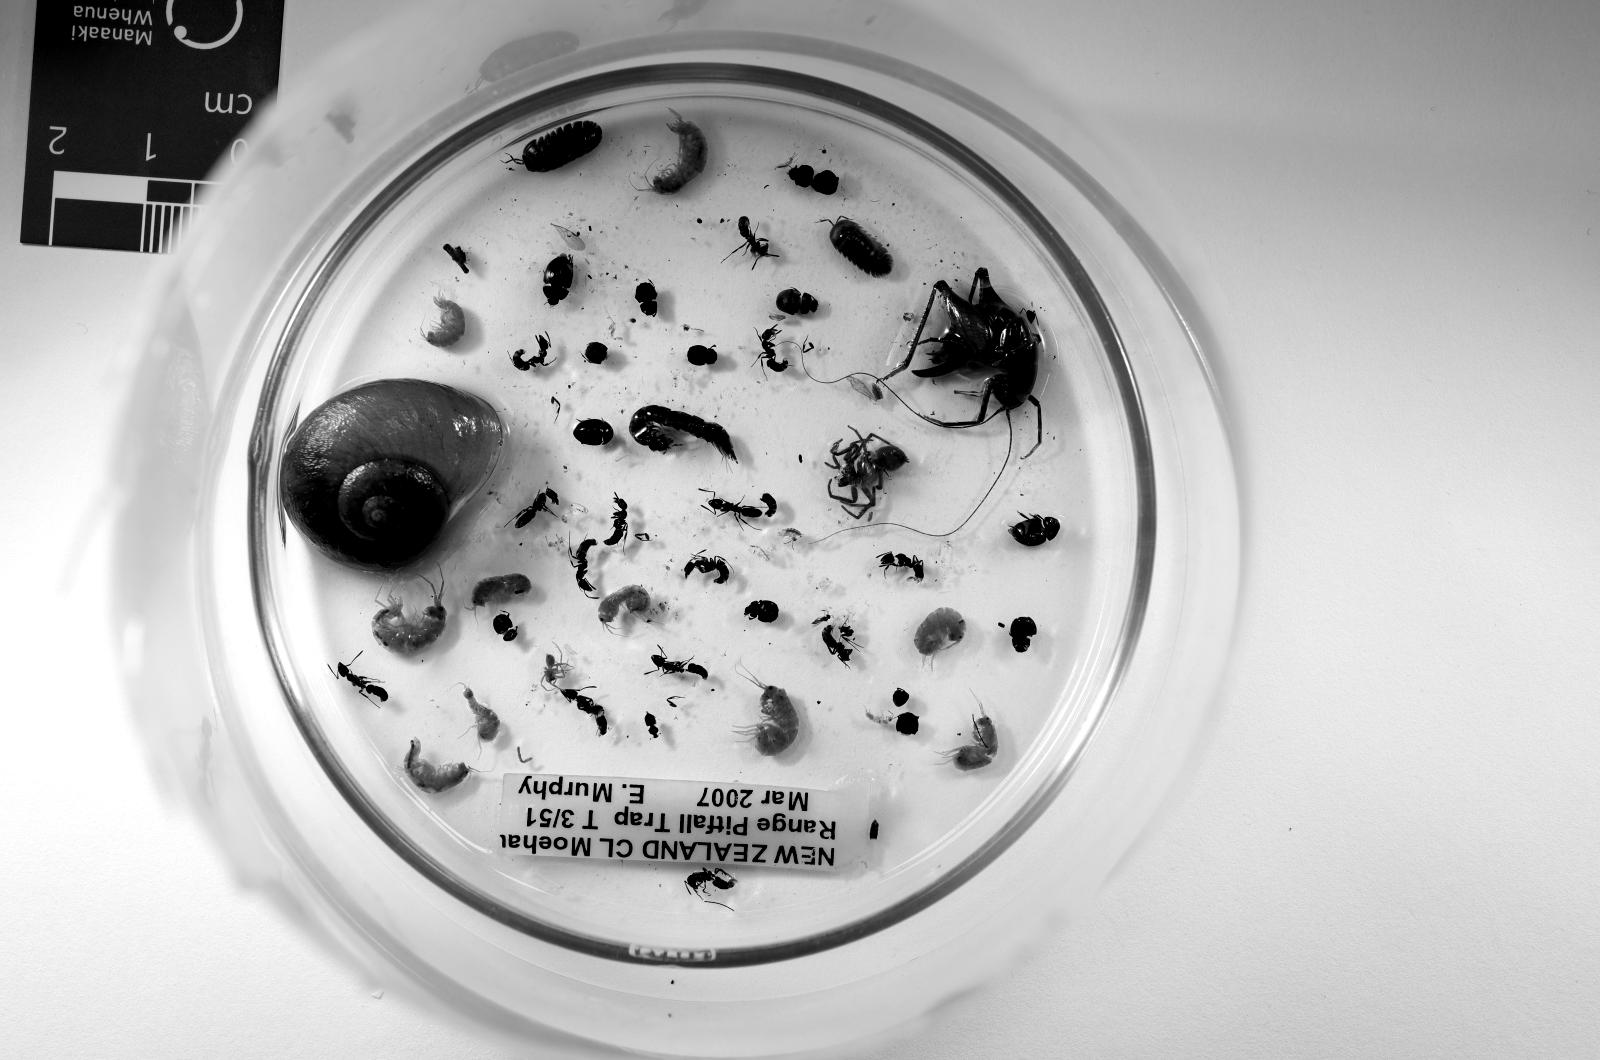amphipoda: (734, 671, 799, 757), (371, 584, 447, 652), (650, 111, 706, 195), (940, 707, 1000, 770), (403, 739, 472, 791), (915, 608, 966, 671), (597, 584, 650, 627), (462, 686, 500, 742), (425, 298, 466, 348), (472, 575, 531, 608)
araneae: (825, 428, 909, 518), (540, 655, 572, 690)
coleoptera: (788, 164, 837, 195), (544, 254, 575, 304), (1010, 516, 1060, 547), (775, 289, 818, 317), (572, 419, 613, 444), (1010, 618, 1037, 652), (744, 600, 778, 625), (634, 283, 656, 317), (687, 344, 719, 367), (494, 615, 519, 642), (643, 715, 660, 739)
collembola: (866, 711, 894, 724)
diplopoda: (628, 403, 738, 463)
diptera: (812, 612, 831, 625)
formicidae: (559, 690, 607, 736), (335, 661, 388, 702), (738, 218, 778, 267), (569, 537, 600, 600), (516, 487, 559, 528), (704, 497, 763, 525), (685, 870, 738, 900), (650, 655, 710, 680), (685, 552, 728, 584), (512, 336, 550, 373), (879, 552, 925, 581), (759, 327, 788, 373), (822, 625, 853, 665), (603, 497, 628, 547)
gastropoda: (278, 379, 506, 571)
isopoda: (510, 121, 603, 174), (831, 218, 894, 277)
orthoptera: (881, 267, 1044, 459), (915, 413, 922, 416)
